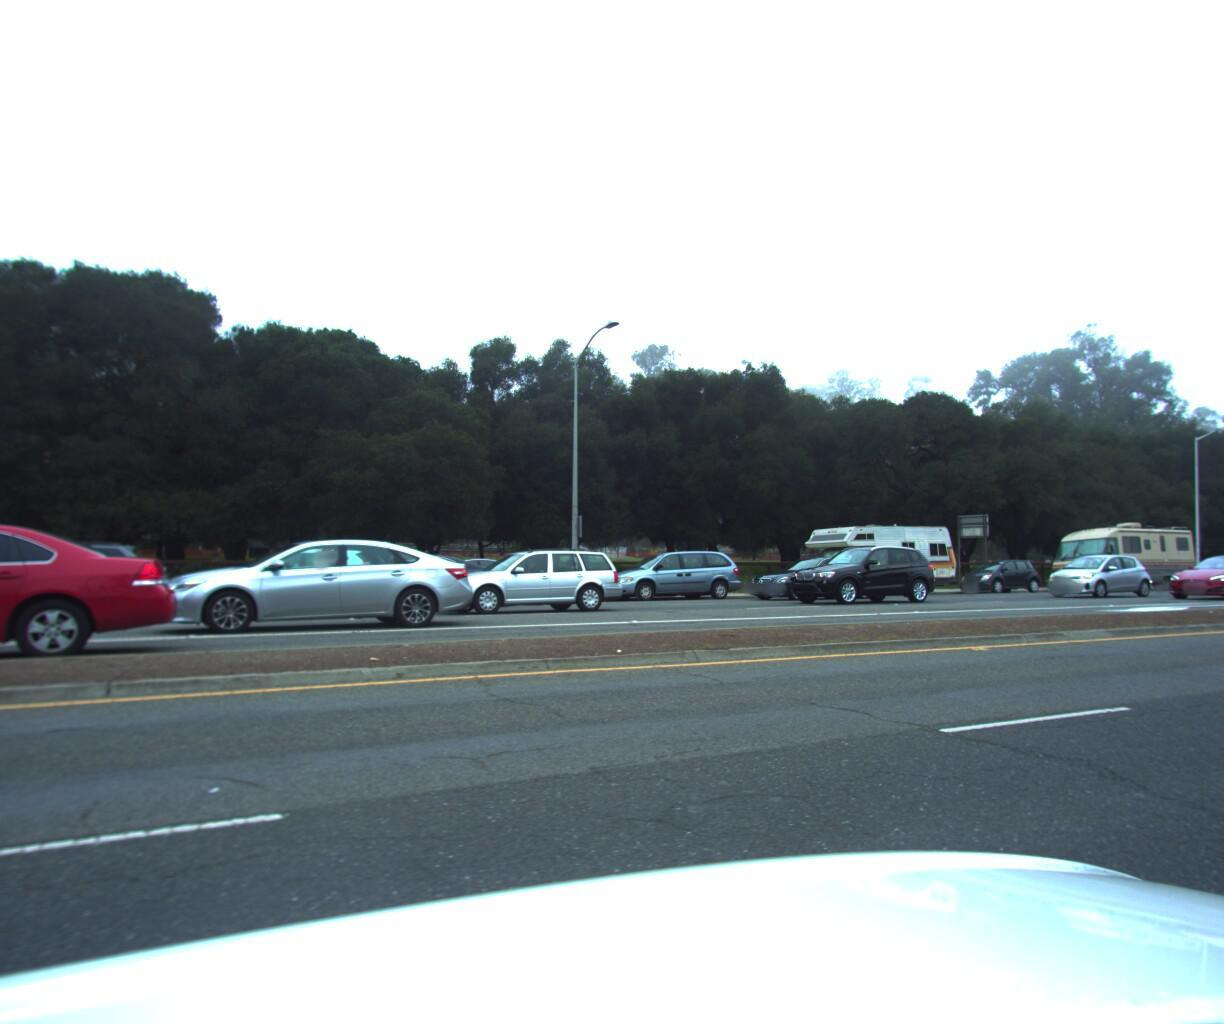car: (140, 531, 485, 644), (0, 514, 192, 696), (423, 544, 630, 617), (0, 539, 159, 631), (293, 545, 485, 615), (776, 541, 940, 604), (592, 546, 749, 609), (379, 552, 549, 610), (739, 549, 894, 599), (1032, 547, 1155, 595), (954, 554, 1042, 594), (1156, 546, 1224, 597), (1218, 543, 1224, 588)
other_vehicle: (792, 516, 962, 603), (1036, 513, 1198, 596)
